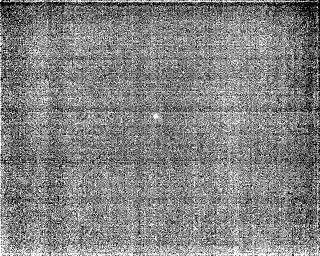BIRD: (151, 111, 163, 125)
